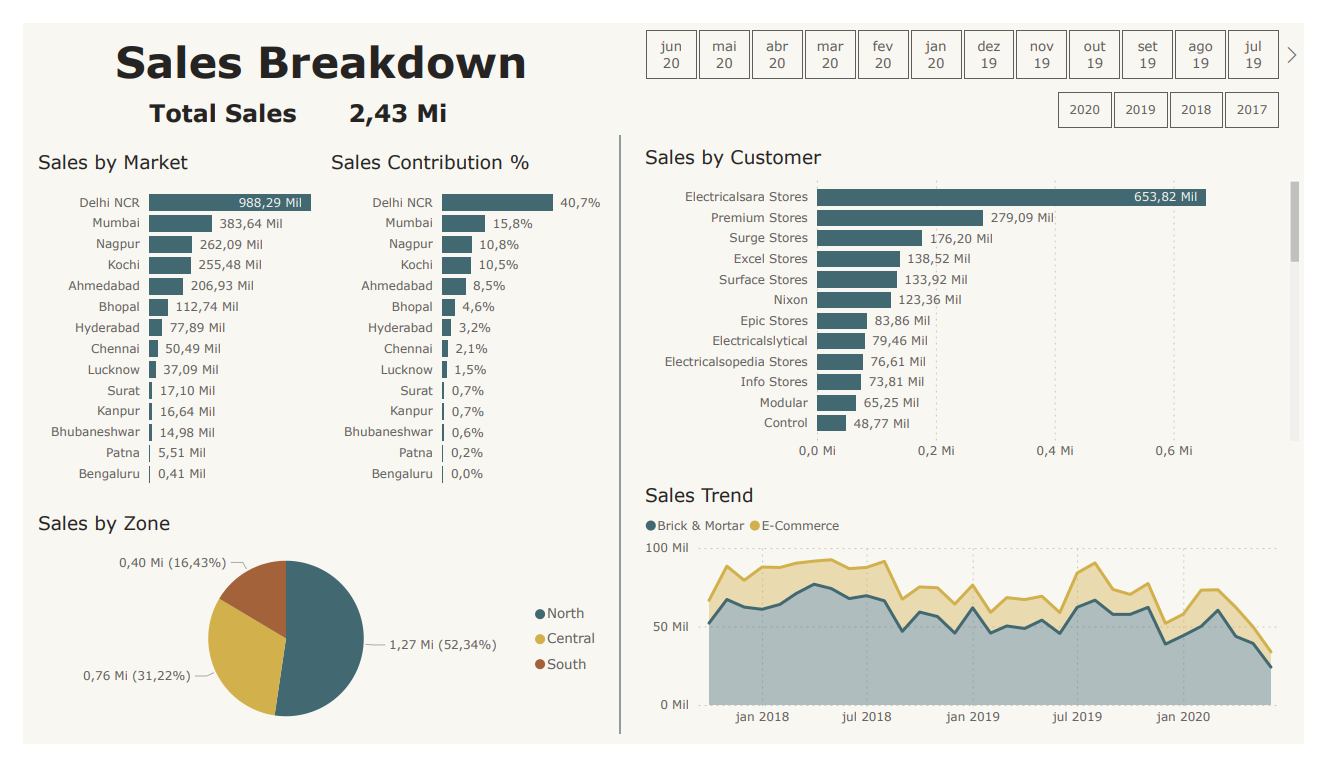

What the dashboard file says about the page in this screenshot:
{"tool":"powerbi","page":{"name":"Sales Breakdown","canvas":[1280,720],"ordinal":2},"visuals":[{"type":"slicer","fields":{"Values":["sales date.date.Variation.Hierarquia de datas.Ano"]},"box":[1008.6,62.2,271.4,49.6],"z":0},{"type":"card","fields":{"Values":["Medidas Base.Sales Qty"]},"box":[293,70,164,42],"z":1000},{"type":"shape","box":[587,111.7,20.4,599.4],"z":2000},{"type":"slicer","fields":{"Values":["sales date.cy_date"]},"box":[597,0,683,63],"z":3000},{"type":"textbox","box":[115,70,178,42],"z":4000},{"type":"barChart","title":"Sales Contribution %","fields":{"Category":["sales markets.markets_name"],"Y":["Medidas Base.sales contribution"]},"box":[293,112,294,361],"z":5000},{"type":"stackedAreaChart","title":"Sales Trend","fields":{"Category":["sales date.cy_date.Variation.Hierarquia de datas.Ano","sales date.cy_date.Variation.Hierarquia de datas.Trimestre","sales date.cy_date.Variation.Hierarquia de datas.Mês","sales date.cy_date.Variation.Hierarquia de datas.Dia"],"Y":["Medidas Base.Sales Qty"],"Series":["sales customers.customer_type"]},"box":[607,445,673,266],"z":6000},{"type":"barChart","title":"Sales by Market","fields":{"Category":["sales markets.markets_name"],"Y":["Medidas Base.Sales Qty"]},"box":[0,112,294,361],"z":7000},{"type":"pieChart","title":"Sales by Zone","fields":{"Category":["sales markets.zone"],"Y":["Medidas Base.Sales Qty"]},"box":[0,473,587,247],"z":8000},{"type":"clusteredBarChart","title":"Sales by Customer","fields":{"Category":["sales customers.customer_name"],"Y":["Medidas Base.Sales Qty"]},"box":[607,112,673,333],"z":9000},{"type":"textbox","box":[0,7,597,62],"z":10000}]}

Visuals, with their boxes in screenshot pixels (x1, y1, x2, y2), scaled from the page's 1280x720 canvas onto the 1327x765 screenshot:
slicer - sales date.date.Variation.Hierarquia de datas.Ano: bbox(1046, 66, 1326, 119)
card - Medidas Base.Sales Qty: bbox(304, 74, 474, 119)
shape: bbox(609, 119, 630, 756)
slicer - sales date.cy_date: bbox(619, 0, 1326, 67)
textbox: bbox(119, 74, 304, 119)
"Sales Contribution %" barChart: bbox(304, 119, 609, 503)
"Sales Trend" stackedAreaChart: bbox(629, 473, 1326, 755)
"Sales by Market" barChart: bbox(0, 119, 305, 503)
"Sales by Zone" pieChart: bbox(0, 503, 609, 764)
"Sales by Customer" clusteredBarChart: bbox(629, 119, 1326, 473)
textbox: bbox(0, 7, 619, 73)
